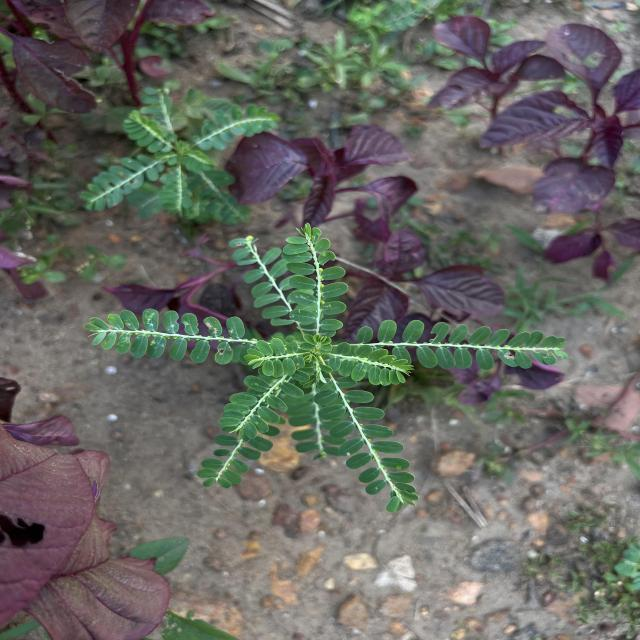Phyllanthus niruri: (311, 370, 424, 514), (354, 318, 574, 372), (82, 306, 245, 366), (280, 221, 352, 337), (216, 369, 308, 442), (323, 342, 416, 388), (243, 332, 310, 380)
